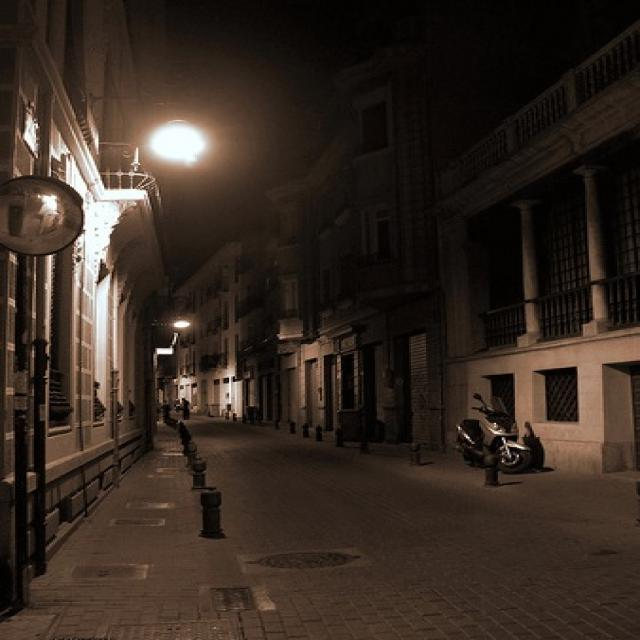Motorbike: (447, 390, 559, 506)
